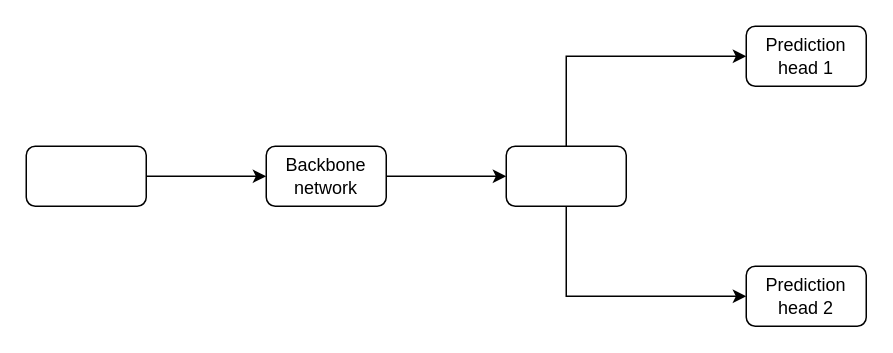
Image size: 893x353. Some labels were removed from this diagram. Here are the shapes that lost their labels. From the top down, the centre of each, then its label:
At point (85, 175): "Input".
At point (565, 175): "Feature map".
